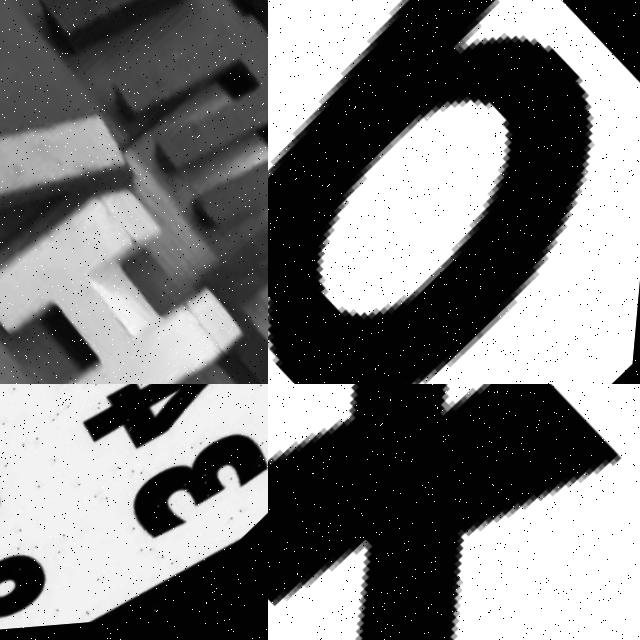3: (96, 384, 268, 601)
4: (42, 384, 268, 532)
5: (0, 384, 223, 446)
8: (0, 500, 101, 640)
9: (0, 428, 43, 636)
A: (0, 0, 219, 94)
H: (0, 153, 268, 384)
L: (0, 0, 162, 295)
M: (68, 0, 268, 299)
O: (160, 169, 268, 384)
Q: (268, 0, 640, 384)
W: (129, 0, 268, 103)
X: (268, 384, 640, 640)
